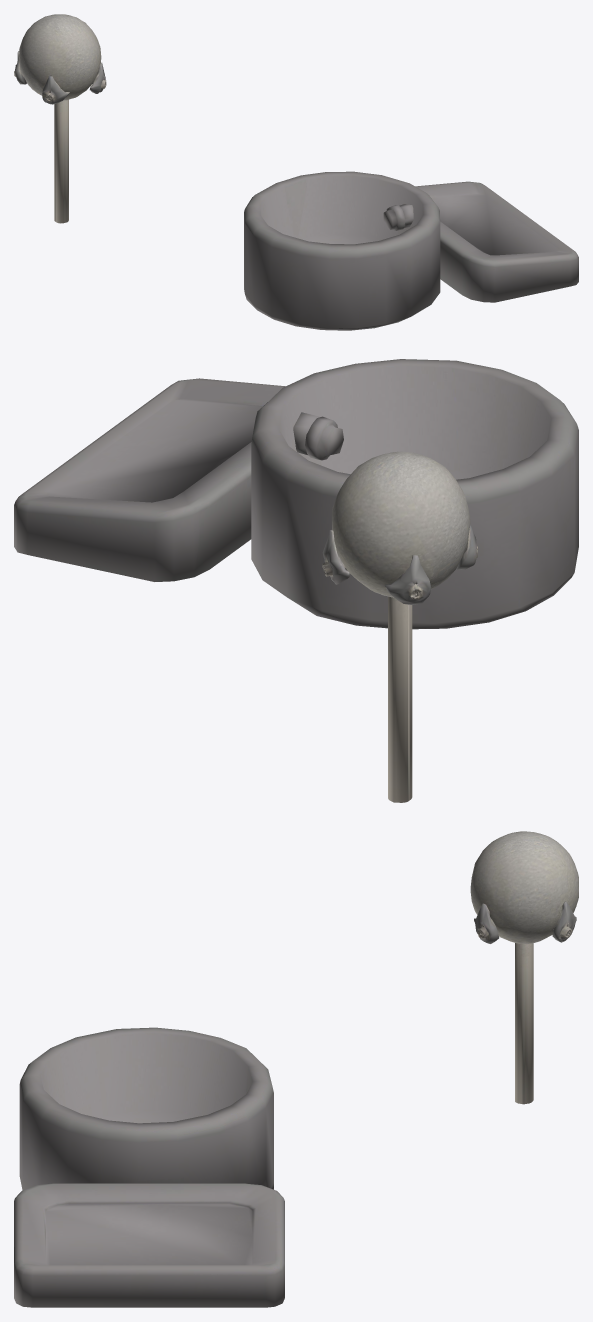
3 views of the same model, one above another, from view 1: azimuth 30°, elevation 25°; view 2: azimuth 150°, elevation 25°; view 3: azimuth 270°, elevation 25° (orthographic). The views are drawn at different scales.
Visible parts, largest first — view 1: tripo_node_e5f8a0fd-3349-4b80-9d7c-630cf0e00e10; view 2: tripo_node_e5f8a0fd-3349-4b80-9d7c-630cf0e00e10; view 3: tripo_node_e5f8a0fd-3349-4b80-9d7c-630cf0e00e10.
Boxes of the visible parts, left/top/right/bottom form: tripo_node_e5f8a0fd-3349-4b80-9d7c-630cf0e00e10: left=14, top=14, right=578, bottom=330; tripo_node_e5f8a0fd-3349-4b80-9d7c-630cf0e00e10: left=14, top=359, right=578, bottom=802; tripo_node_e5f8a0fd-3349-4b80-9d7c-630cf0e00e10: left=14, top=831, right=578, bottom=1307.
Bounding box in the file's own units: 0.9629 × 0.5137 × 0.998.
Materials: 1 (1 with a texture image).
